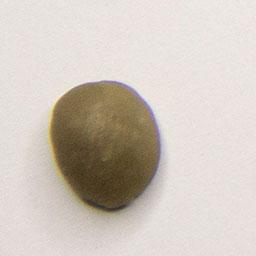premium: (47, 77, 165, 213)
